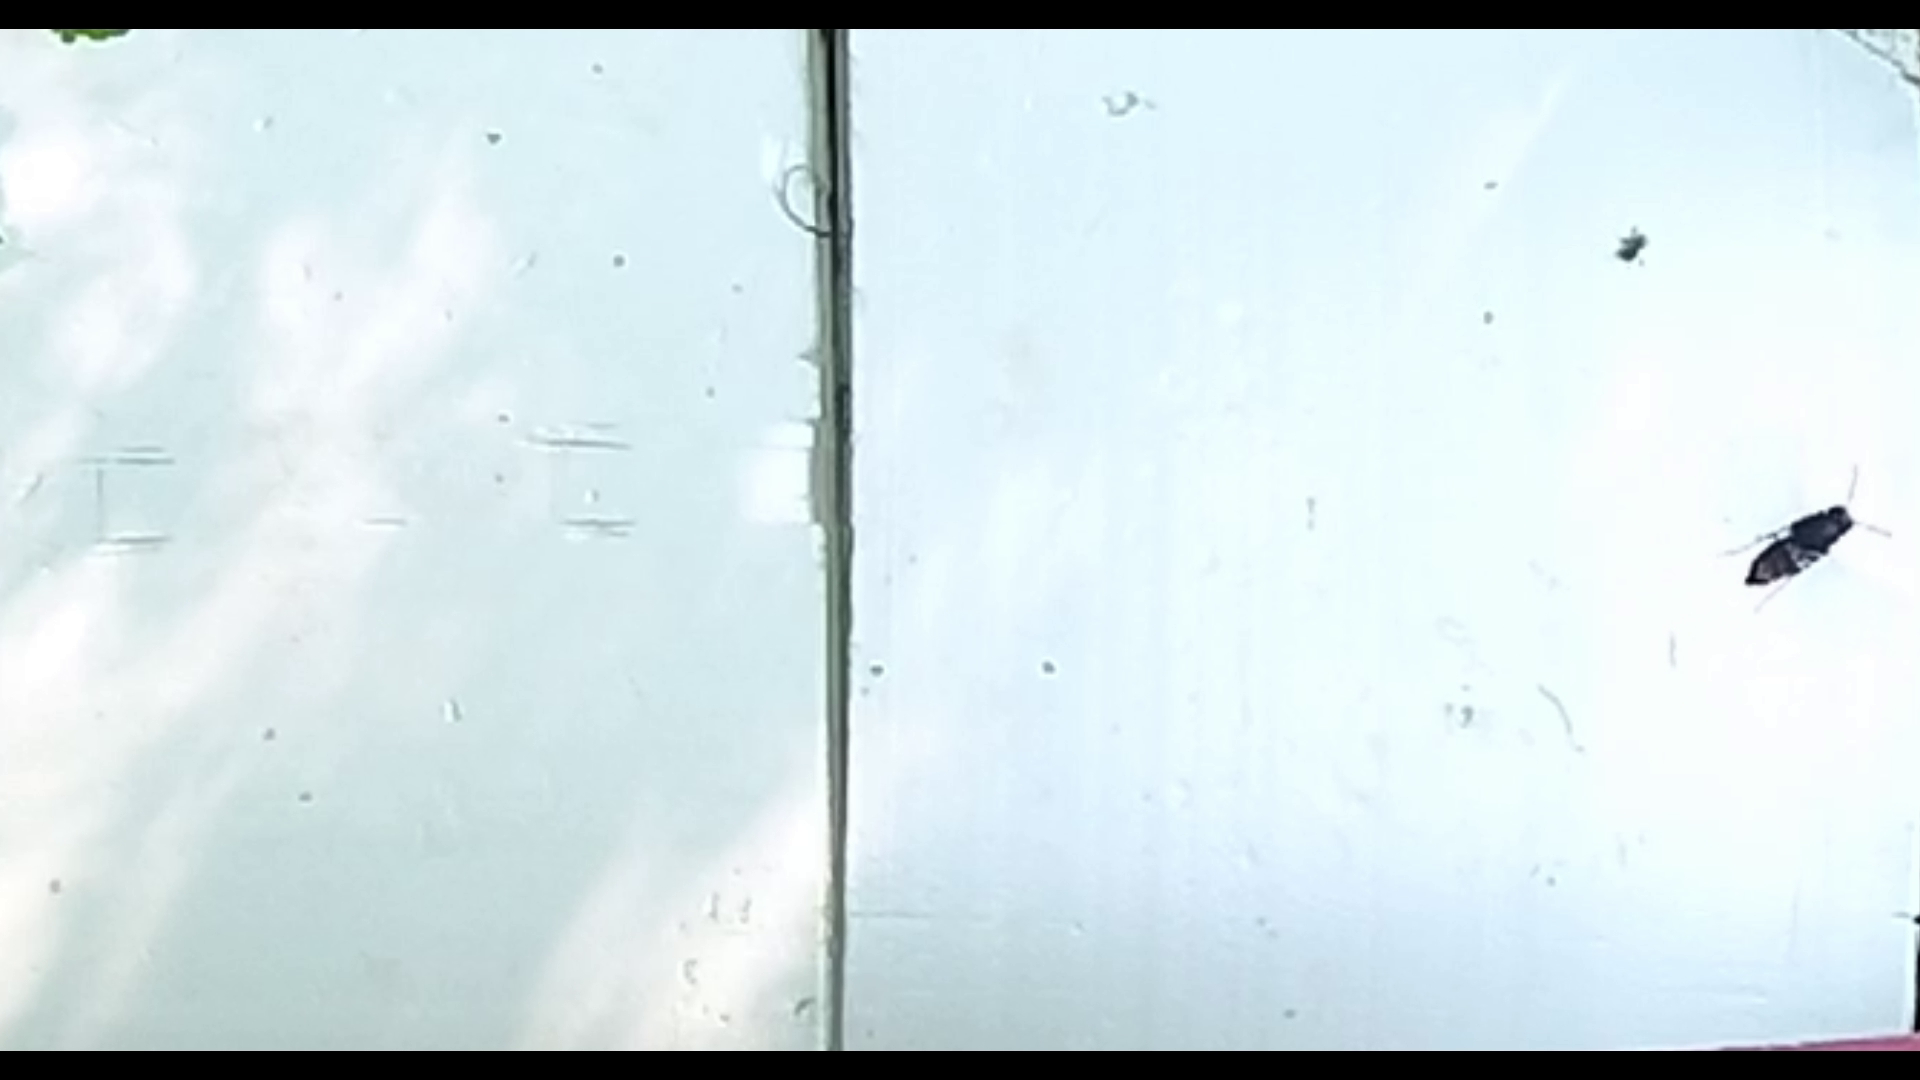Asian_hornets: (1706, 439, 1891, 625)
